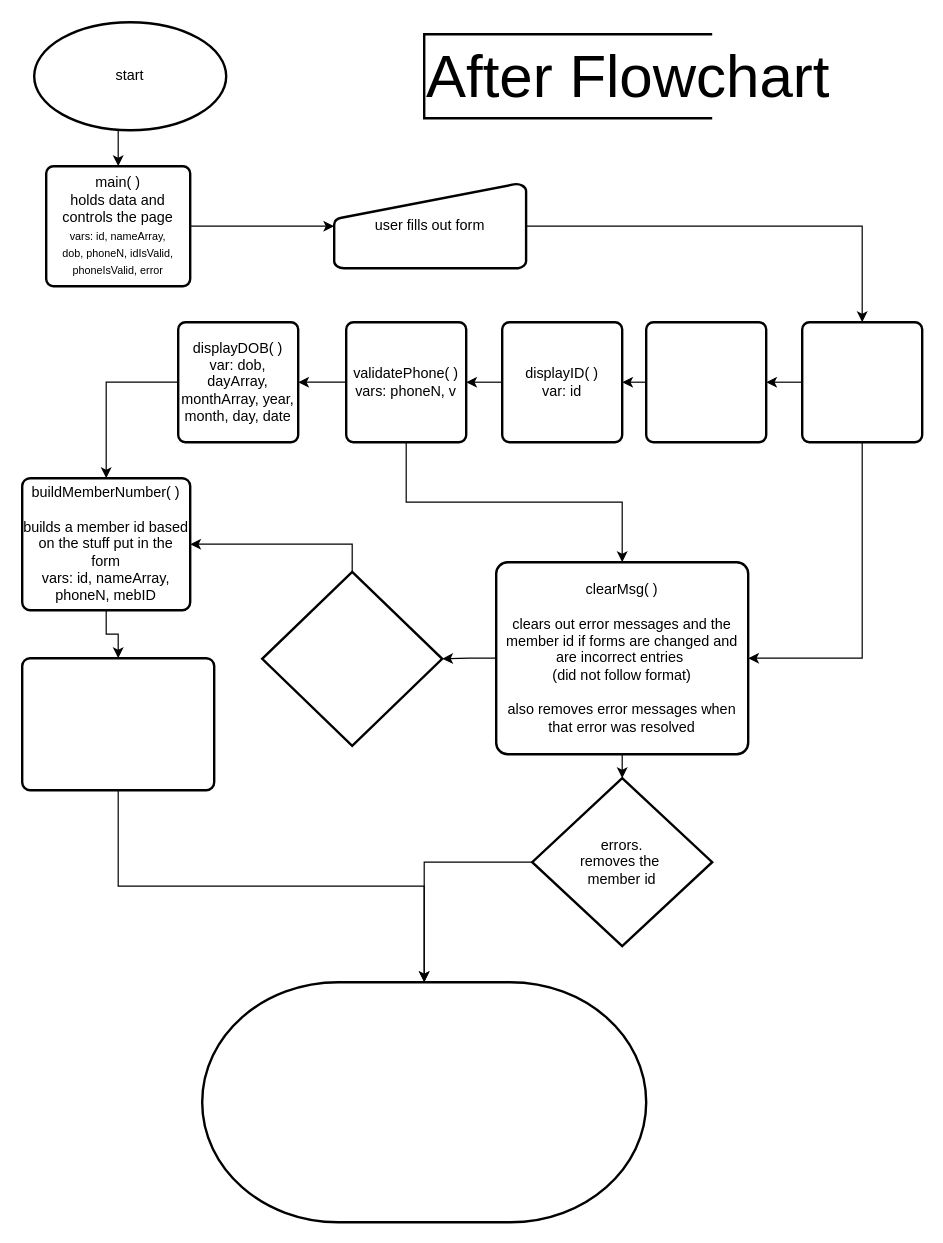
Some shapes in this 943 by 1243 pixel diagram are drawn without their labels. Each missing label, with the centre of its shape:
displayMemberNumber( ) Displays Member ID var: mebID: the point at 117,723
end: the point at 423,1101
no errors. clears out error messages: the point at 351,658
reformatID( ) vars: id, startP, endP idFinal: the point at 705,381
validateID( ) var: id, x, v: the point at 861,381
